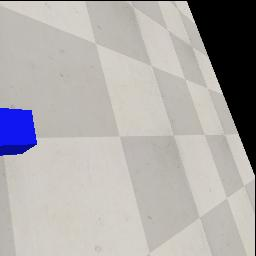box: (0, 107, 38, 157)
